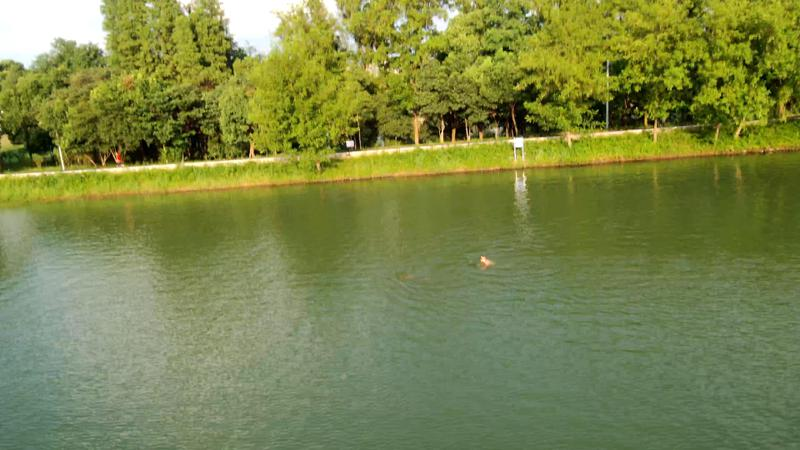passerby: (112, 150, 123, 167)
swimmers: (476, 251, 497, 273)
